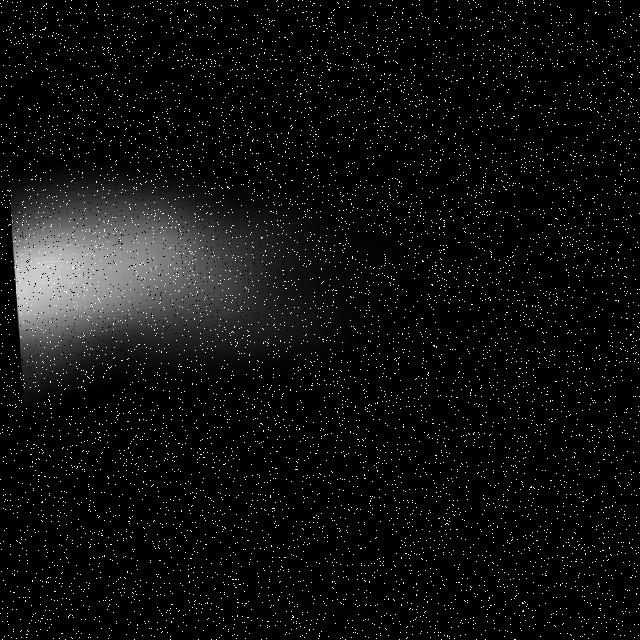person: (9, 166, 351, 424)
